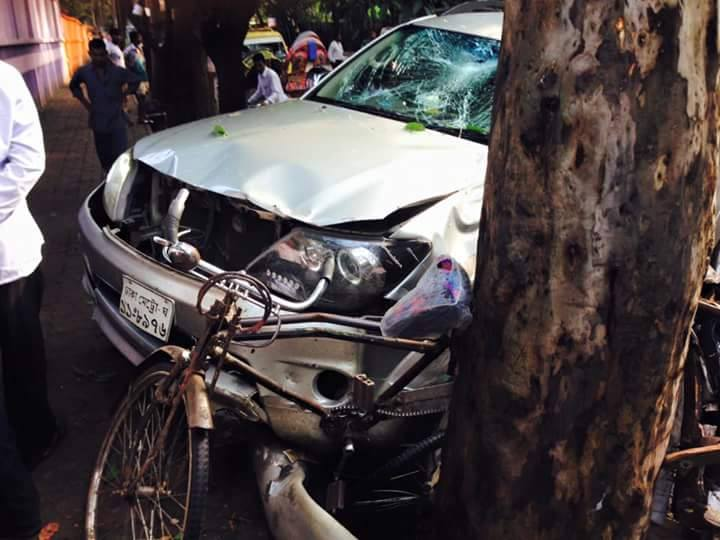registration_plate: (118, 273, 174, 343)
